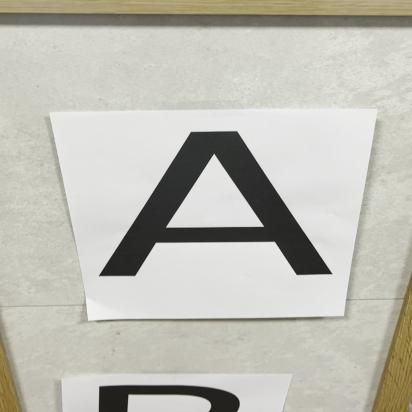seat: (78, 113, 332, 305)
